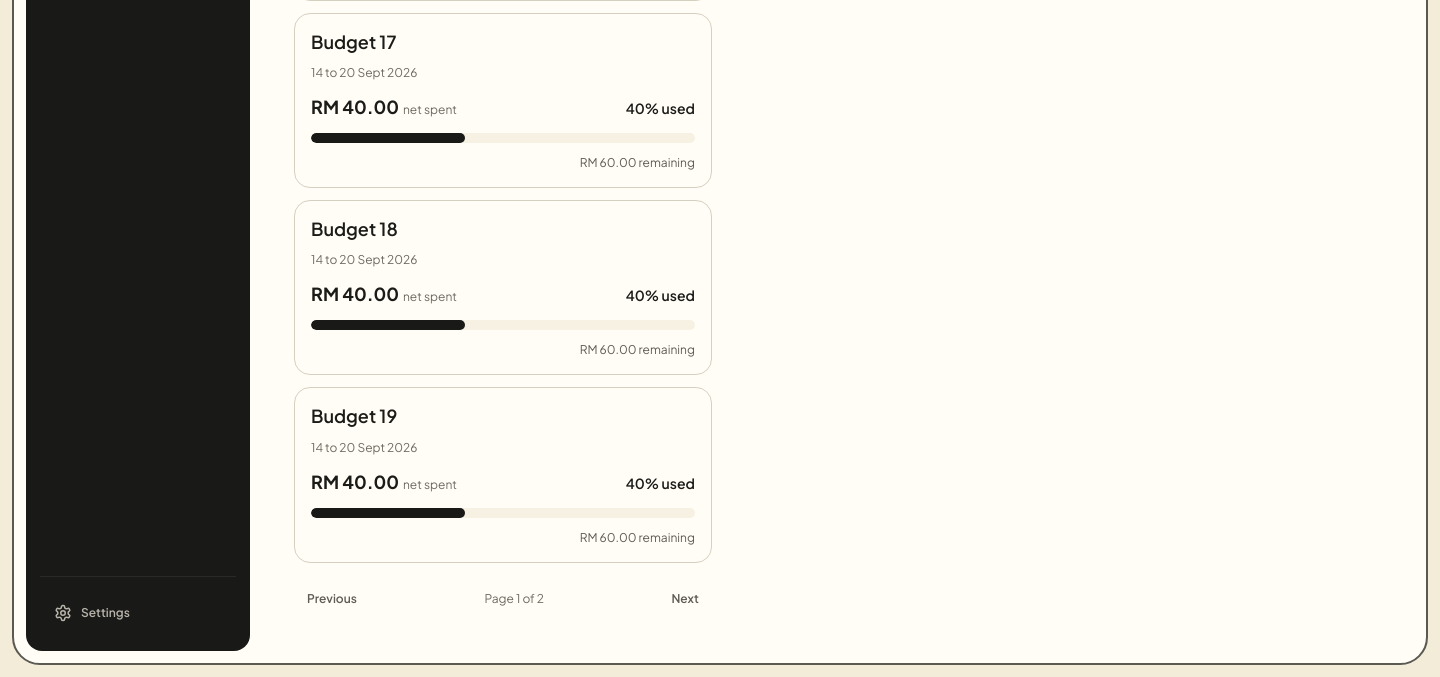
Scenario: budget list and detail loading › paginates all loaded summaries locally in pages of 20
(page scrolled)
Click the button with aria-label "Next budgets page" at point(685, 599), box [658,579,712,619]
(page scrolled)
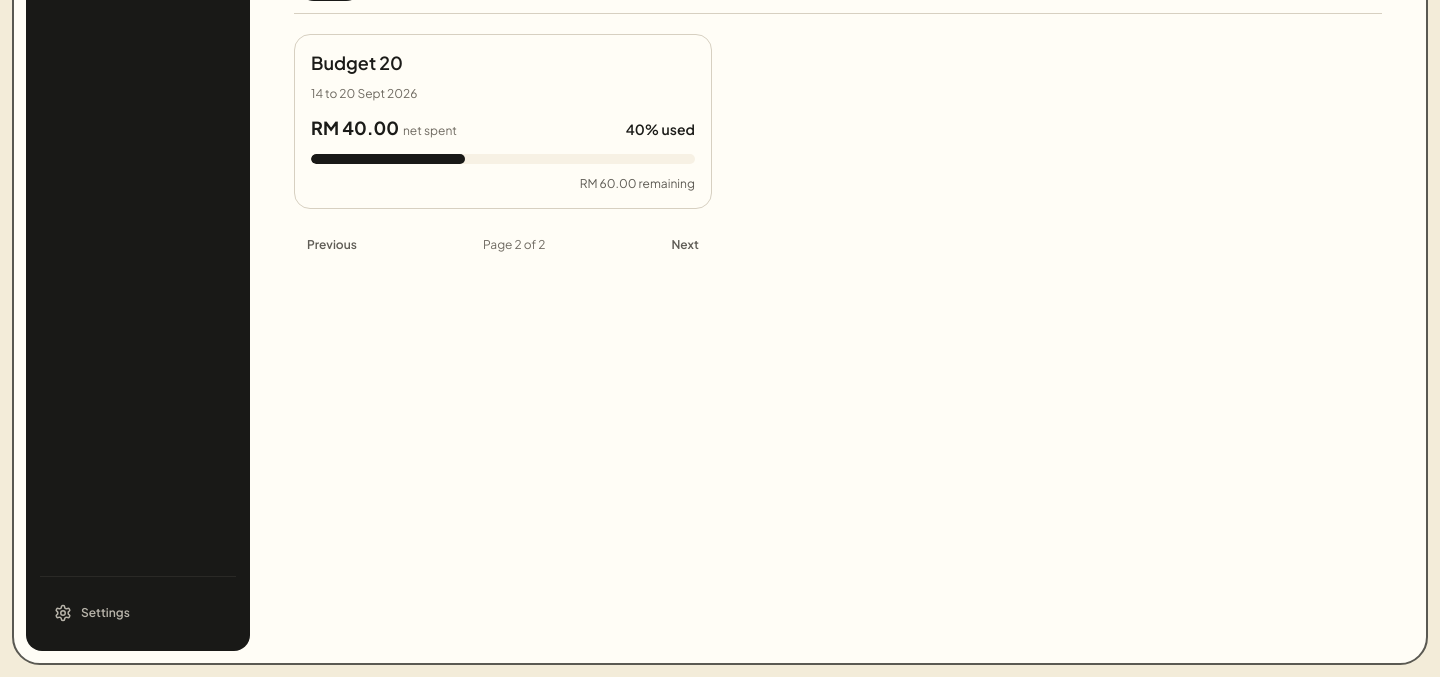
Check: the number of buttons named "View Budget" is 1, box [294,34,712,209]
